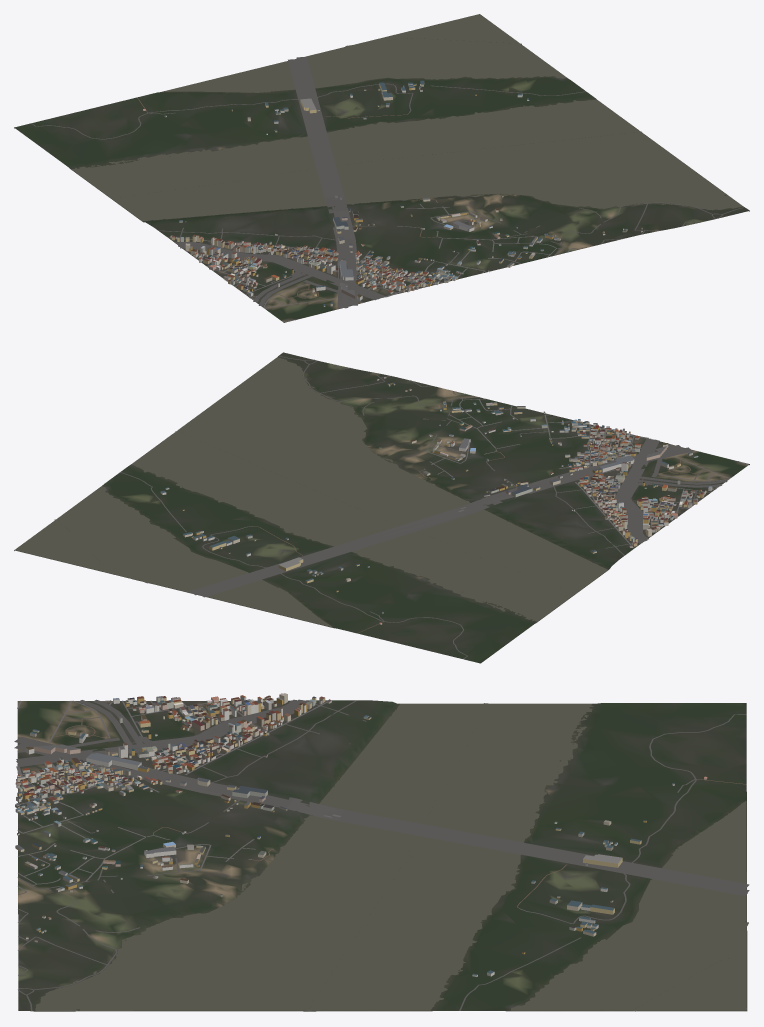
The picture shows the model from 3 angles, top to bottom: view 1: azimuth 30°, elevation 25°; view 2: azimuth 150°, elevation 25°; view 3: azimuth 270°, elevation 25°; orthographic projection. The views are drawn at different scales.
Parts seen in each view (by area): view 1: water, ground, roads, buildings; view 2: water, ground, roads, buildings; view 3: water, ground, buildings, roads.
Boxes of the visible parts, left/top/right/bottom form: water: left=72, top=14, right=742, bottom=221; ground: left=14, top=14, right=749, bottom=322; roads: left=31, top=57, right=744, bottom=321; buildings: left=143, top=80, right=642, bottom=306; water: left=15, top=357, right=607, bottom=627; ground: left=14, top=352, right=749, bottom=663; roads: left=120, top=356, right=748, bottom=659; buildings: left=160, top=376, right=712, bottom=624; water: left=35, top=703, right=748, bottom=1011; ground: left=17, top=700, right=747, bottom=1011; buildings: left=15, top=693, right=707, bottom=976; roads: left=14, top=699, right=749, bottom=1010.
Size of the model in its own units: 1407 by 37.4 by 1415.
